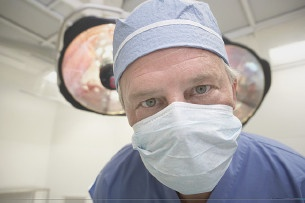Mask: (122, 75, 242, 194)
